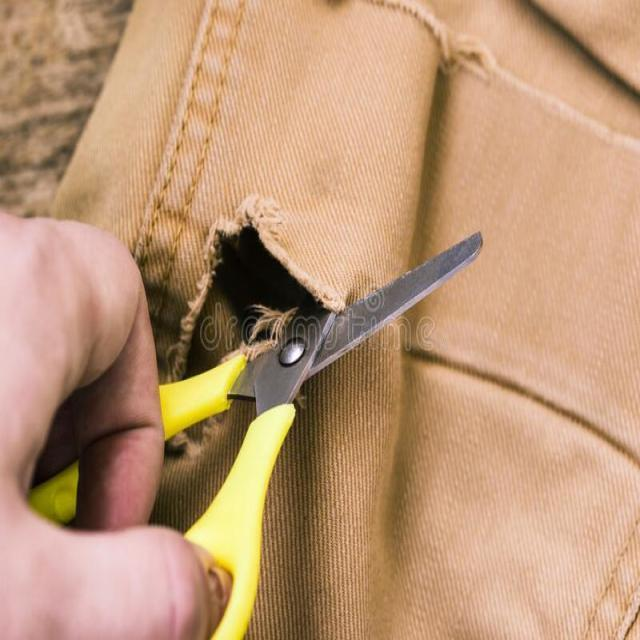clothes: (107, 4, 528, 640), (483, 16, 640, 640)
